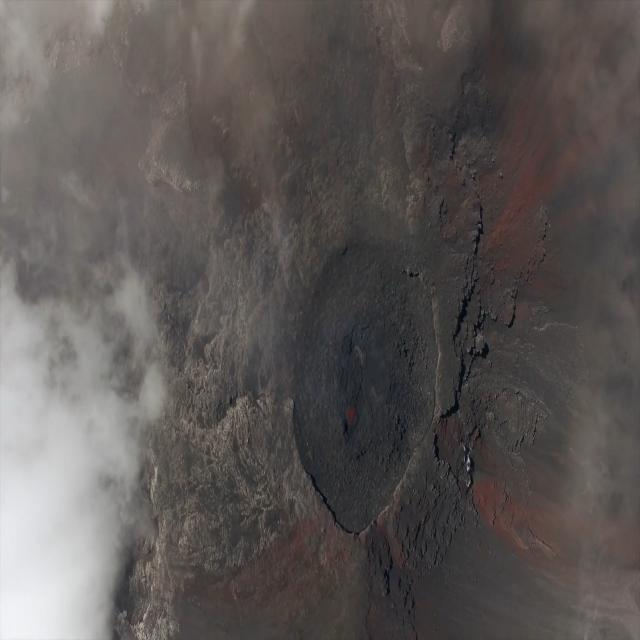Summit: (274, 163, 482, 572)
